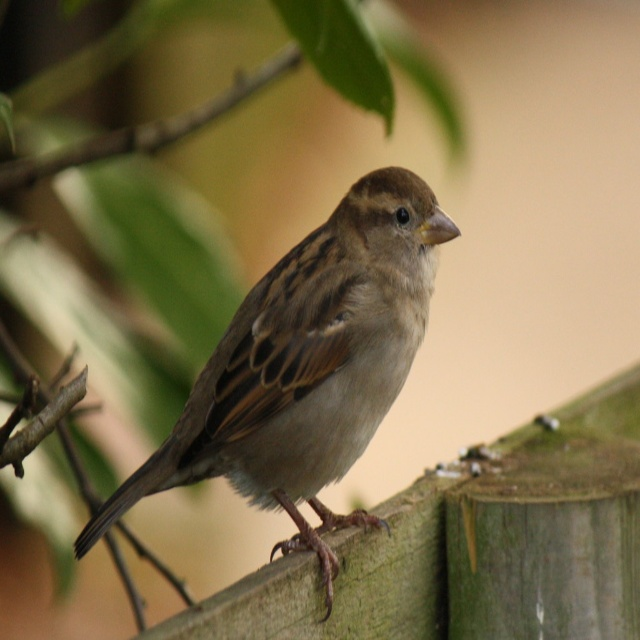Sparrow: (74, 163, 462, 624)
